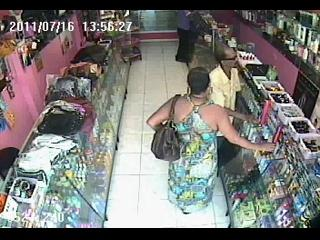Normal: (146, 66, 278, 215), (208, 46, 258, 126), (151, 94, 181, 162), (174, 11, 193, 66)
